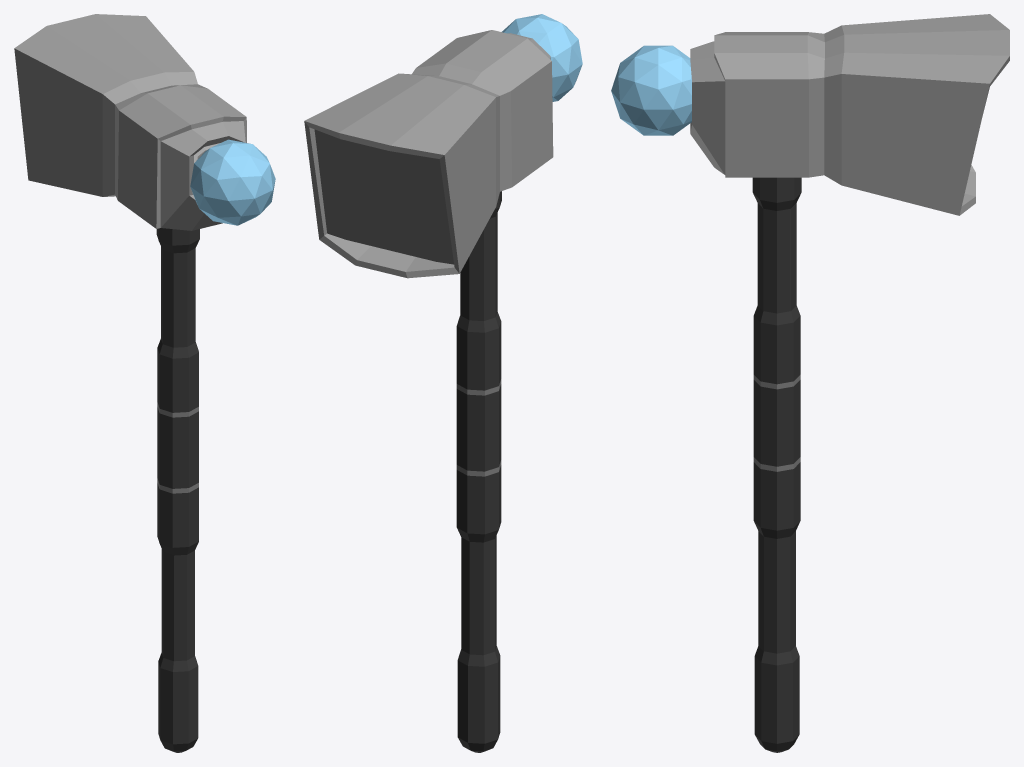
The model's file is Scoop.fbx.
The picture shows the model from 3 angles, left to right: view 1: azimuth 30°, elevation 25°; view 2: azimuth 150°, elevation 25°; view 3: azimuth 270°, elevation 25°; orthographic projection. The views are drawn at different scales.
Parts seen in each view (by area): view 1: Base, Icosphere; view 2: Base, Cube, Icosphere; view 3: Base, Icosphere.
Part boxes in pixels (x1,y1,x2,y2): Base: (14, 14, 246, 752); Icosphere: (190, 139, 275, 225); Base: (304, 30, 553, 752); Cube: (314, 129, 453, 264); Icosphere: (502, 14, 582, 101); Base: (690, 14, 1009, 752); Icosphere: (611, 45, 691, 135).
Size of the model in its own units: 29.2 by 138 by 70.54.
